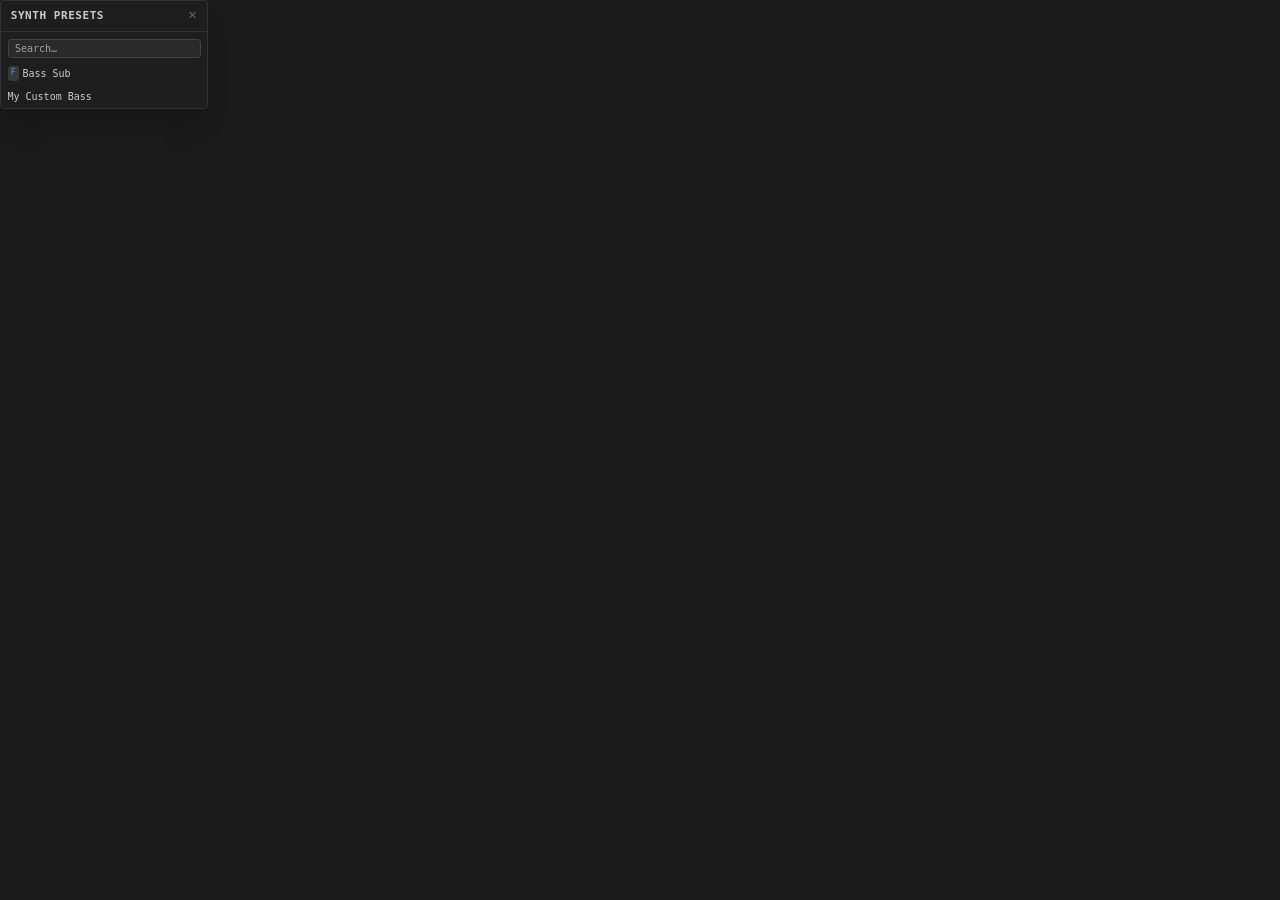
Test: PresetBrowser › filters preset list by search query (case-insensitive substring match)
Expected: the text "Bass Sub" is shown, [22, 68, 71, 79]
Expected: the text "My Custom Bass" is shown, [8, 91, 92, 102]
Note: Type a query that matches only the factory preset
Type "bass sub" into the field named "search presets".
click(104, 49); type("bass sub")  # box [8, 39, 200, 58]
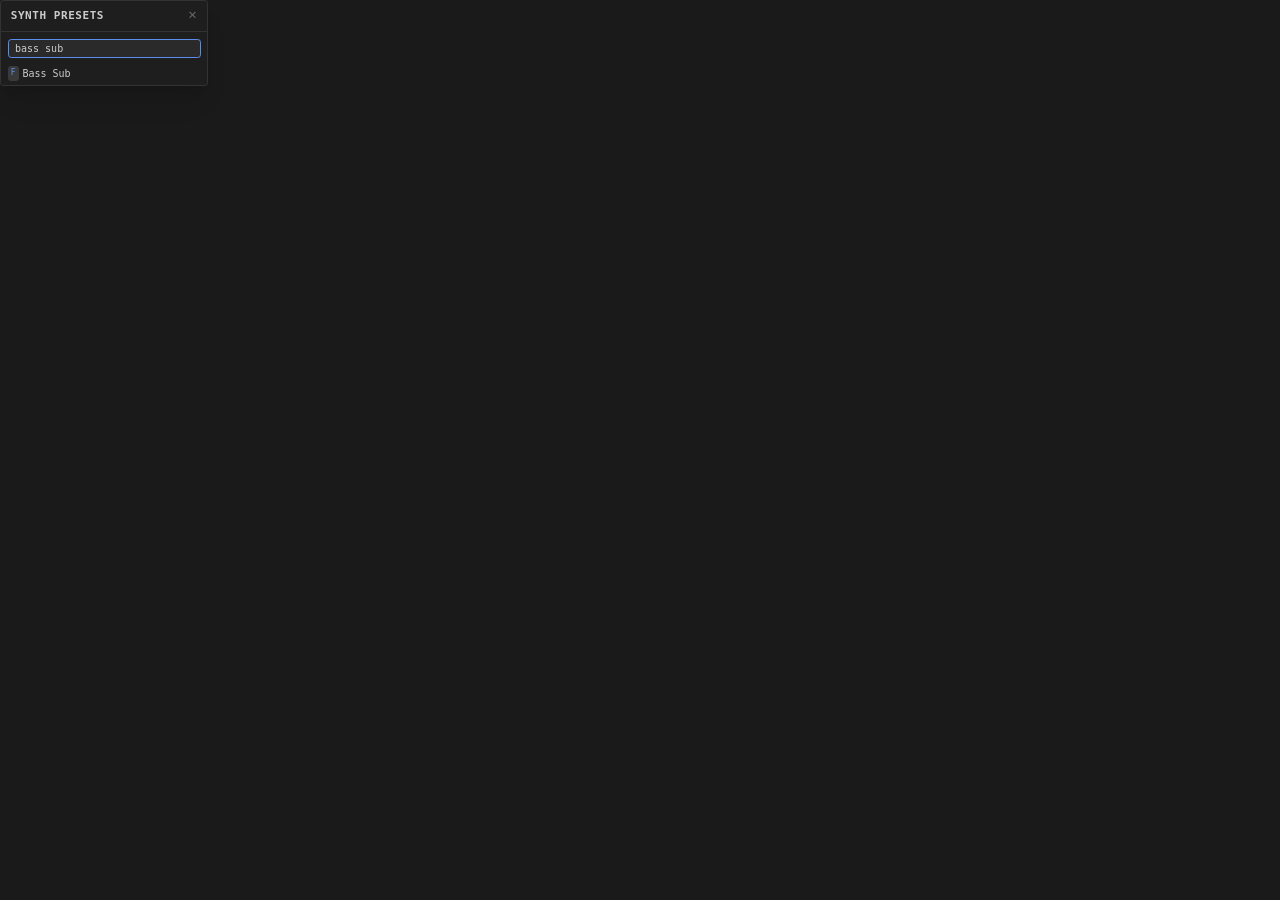
Expected: the text "Bass Sub" is shown, [22, 68, 71, 79]
Expected: the option "My Custom Bass" is gone
